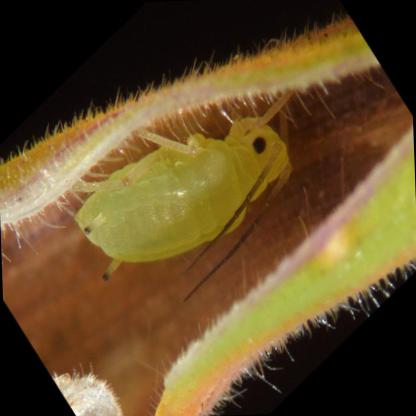schizaphis graminum: (74, 90, 295, 278)
